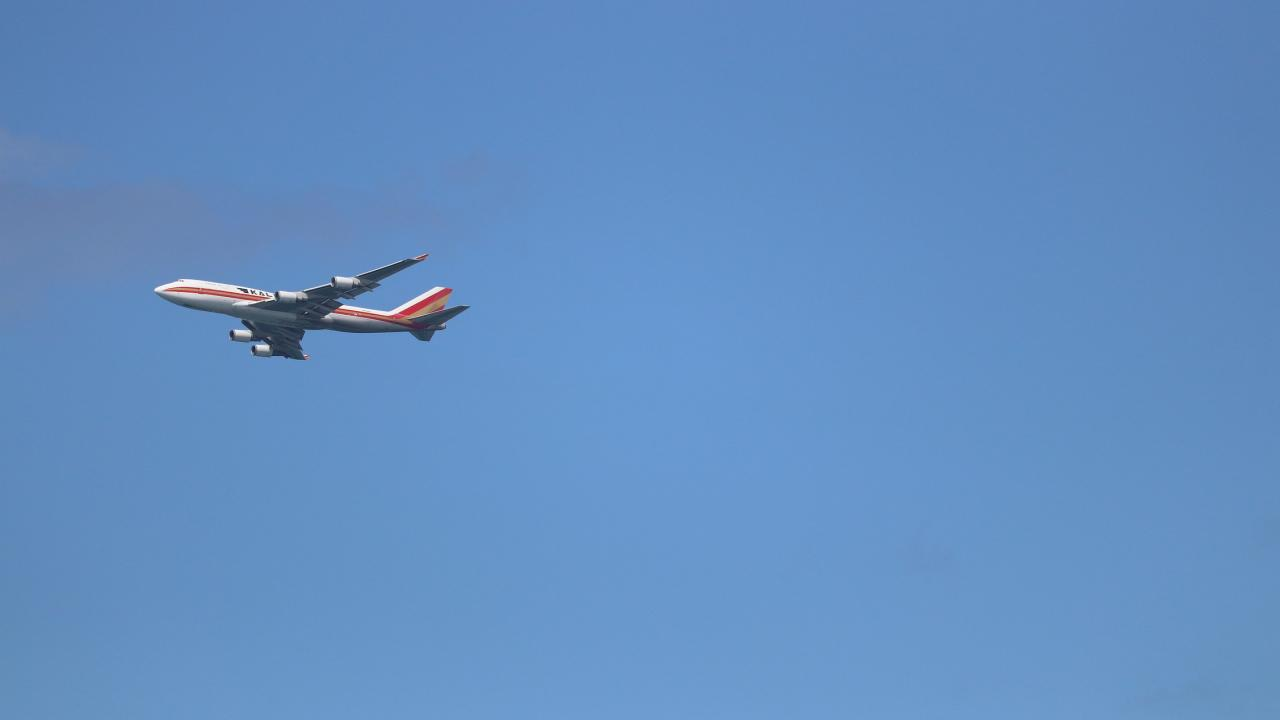Airplane: (141, 237, 487, 368)
